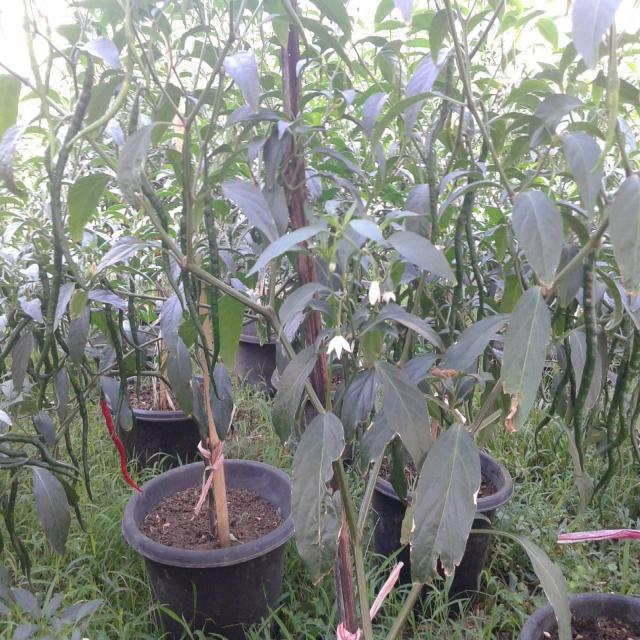sehat: (24, 453, 84, 555), (272, 332, 326, 439), (215, 169, 283, 247), (510, 185, 565, 278)
